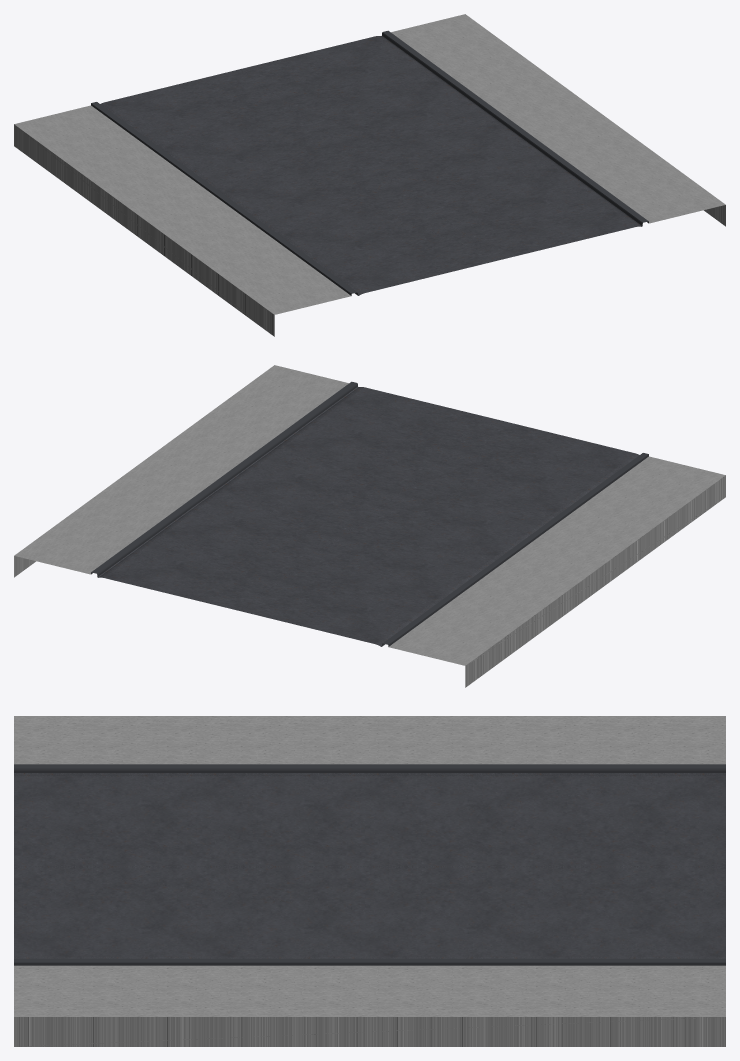
File: StraightSquare.dae
The picture shows the model from 3 angles, top to bottom: view 1: azimuth 30°, elevation 25°; view 2: azimuth 150°, elevation 25°; view 3: azimuth 270°, elevation 25°; orthographic projection. The views are drawn at different scales.
Parts seen in each view (by area): view 1: RoadStraight; view 2: RoadStraight; view 3: RoadStraight.
Boxes of the visible parts, left/top/right/bottom form: RoadStraight: left=14, top=14, right=725, bottom=336; RoadStraight: left=14, top=365, right=725, bottom=687; RoadStraight: left=14, top=716, right=725, bottom=1046.
Bounding box in the file's own units: 20.58 × 20.58 × 1.05.
3 materials, 3 textured.
